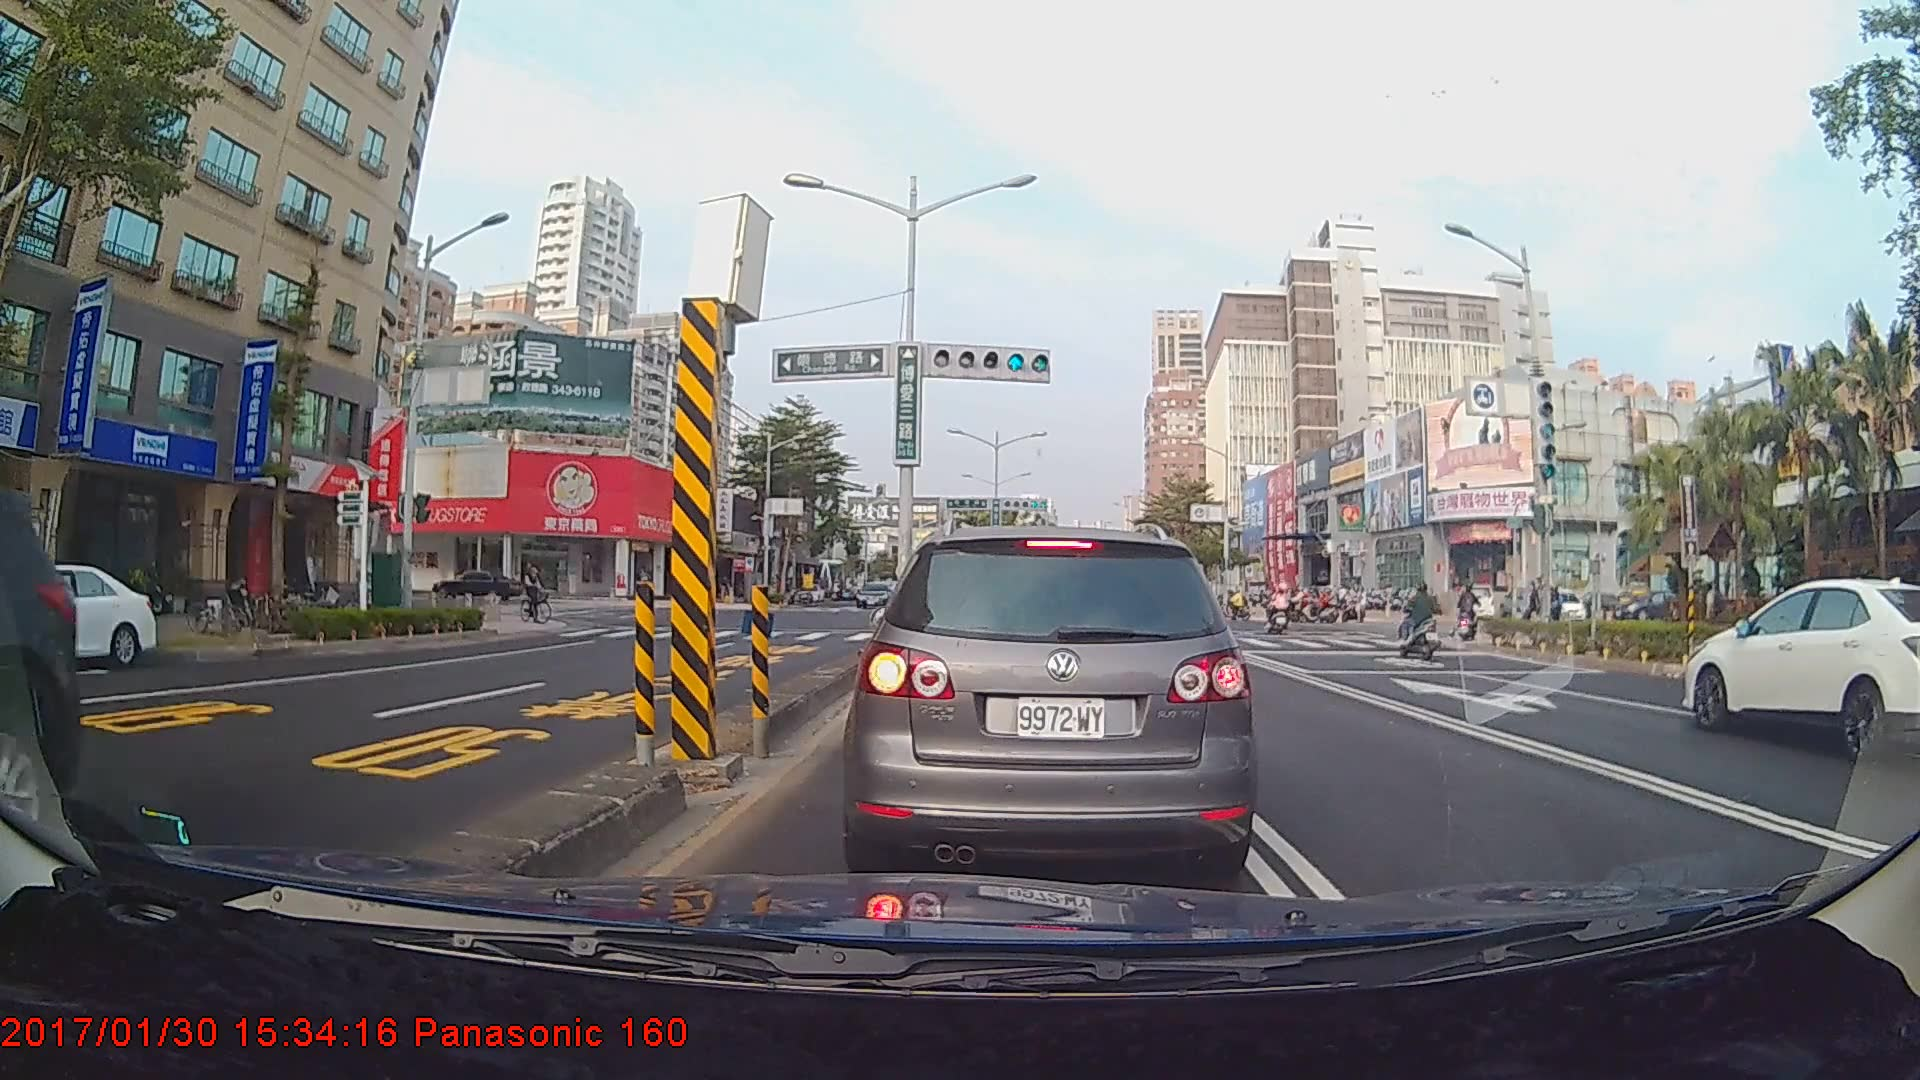pedestrian: (1704, 582, 1726, 642)
rider: (1397, 580, 1451, 661), (518, 559, 561, 629), (1449, 582, 1479, 646), (1267, 580, 1296, 639)
vehicle: (853, 523, 1250, 882), (1684, 575, 1920, 755), (0, 561, 158, 671), (430, 568, 520, 601), (855, 581, 892, 609)
